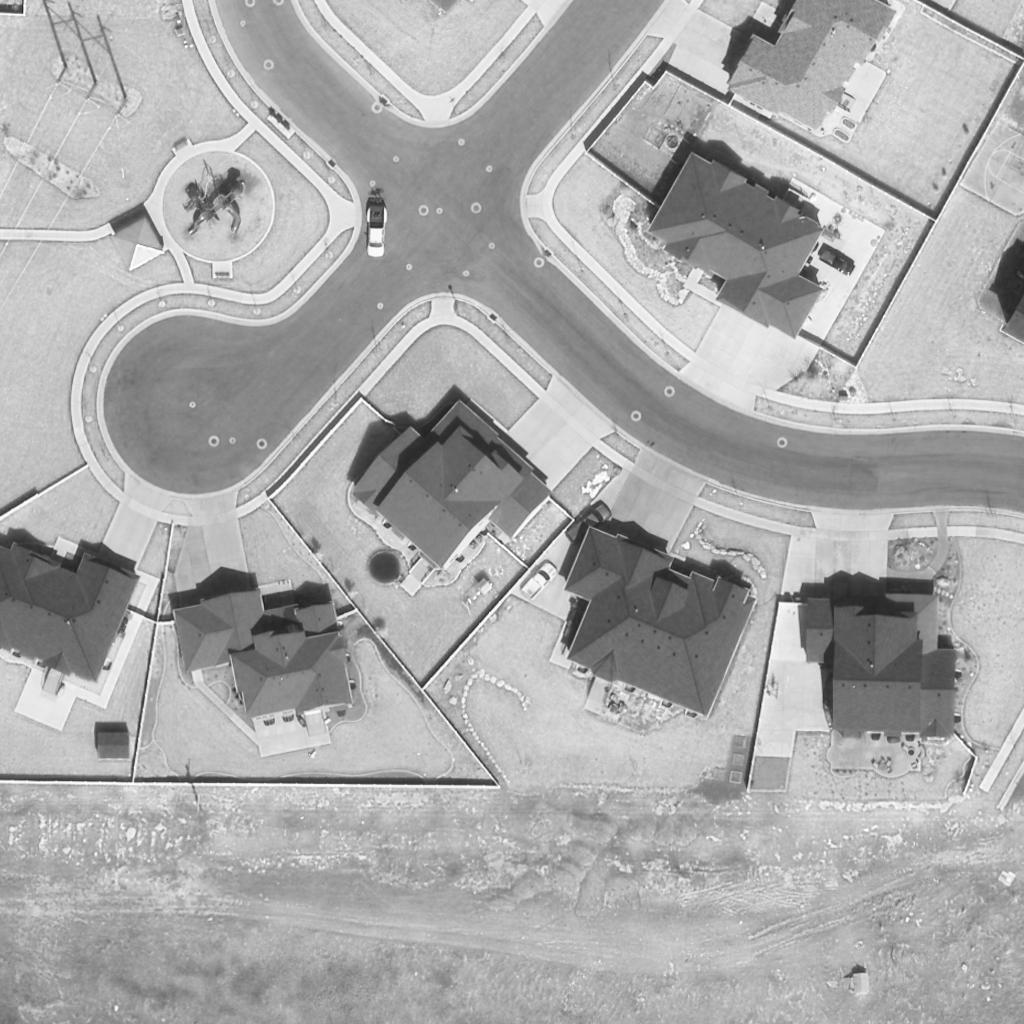vehicle: (564, 503, 614, 541), (523, 562, 559, 600), (364, 205, 388, 257), (820, 245, 854, 277)
